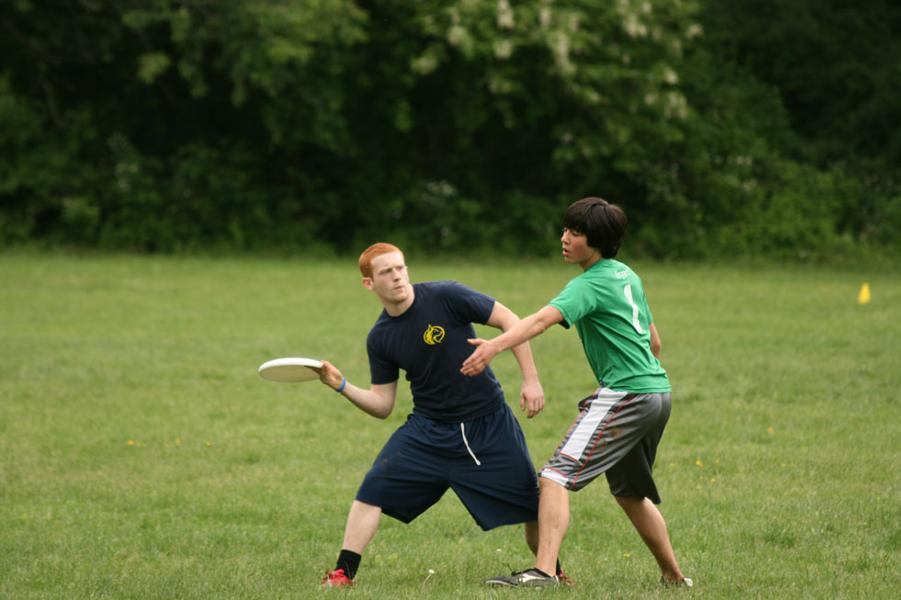person: (312, 242, 572, 587)
